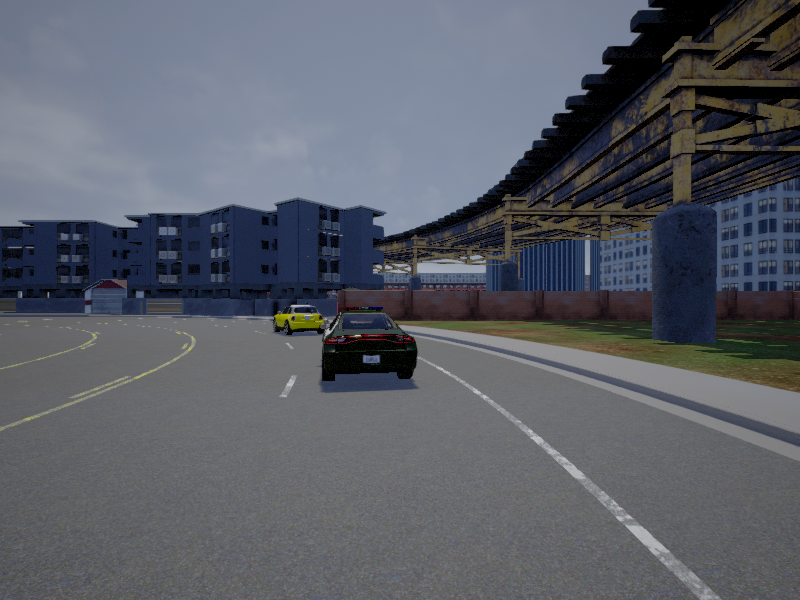Benign: (322, 307, 416, 385), (272, 303, 329, 335)
